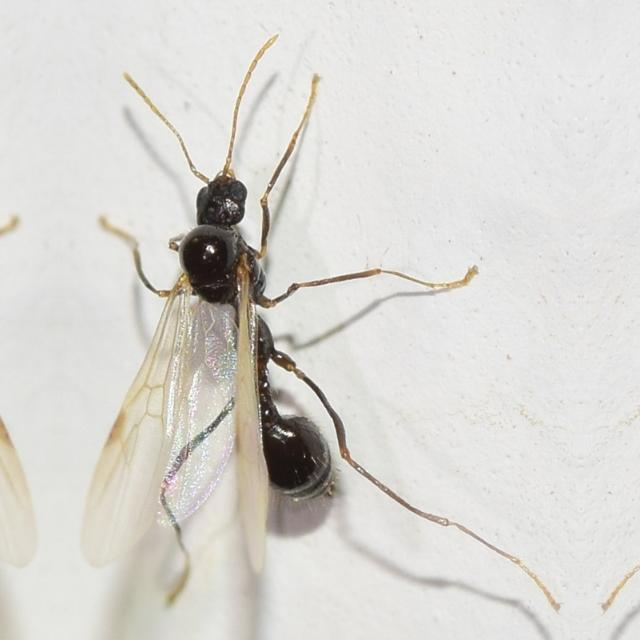Apheanogaster: (108, 97, 378, 558)
